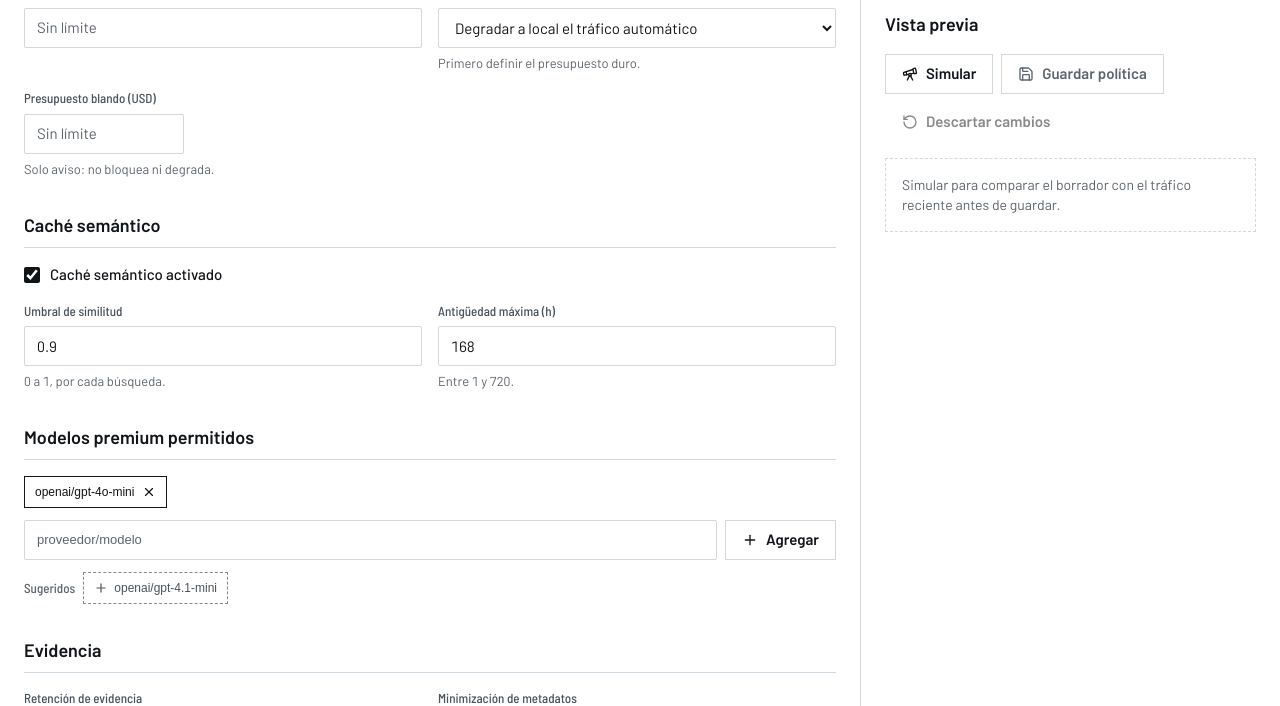
Test: policy-form › clears a field's error as soon as it is edited, and the panel stops naming it
(page scrolled)
Replace the text in the field labelled "Umbral de similitud" with "1.2" at (223, 346), box [24,326,422,366]
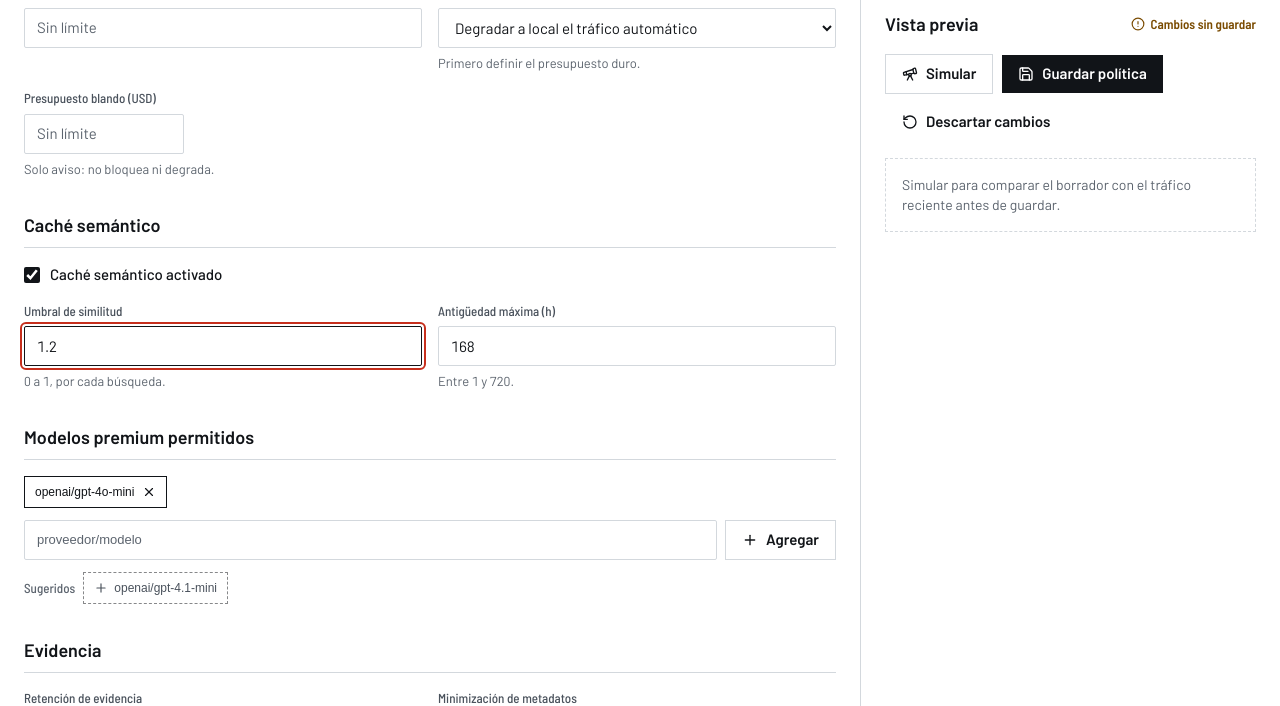
Click the button "Guardar política" at (1083, 74), box [1001,54,1164,94]
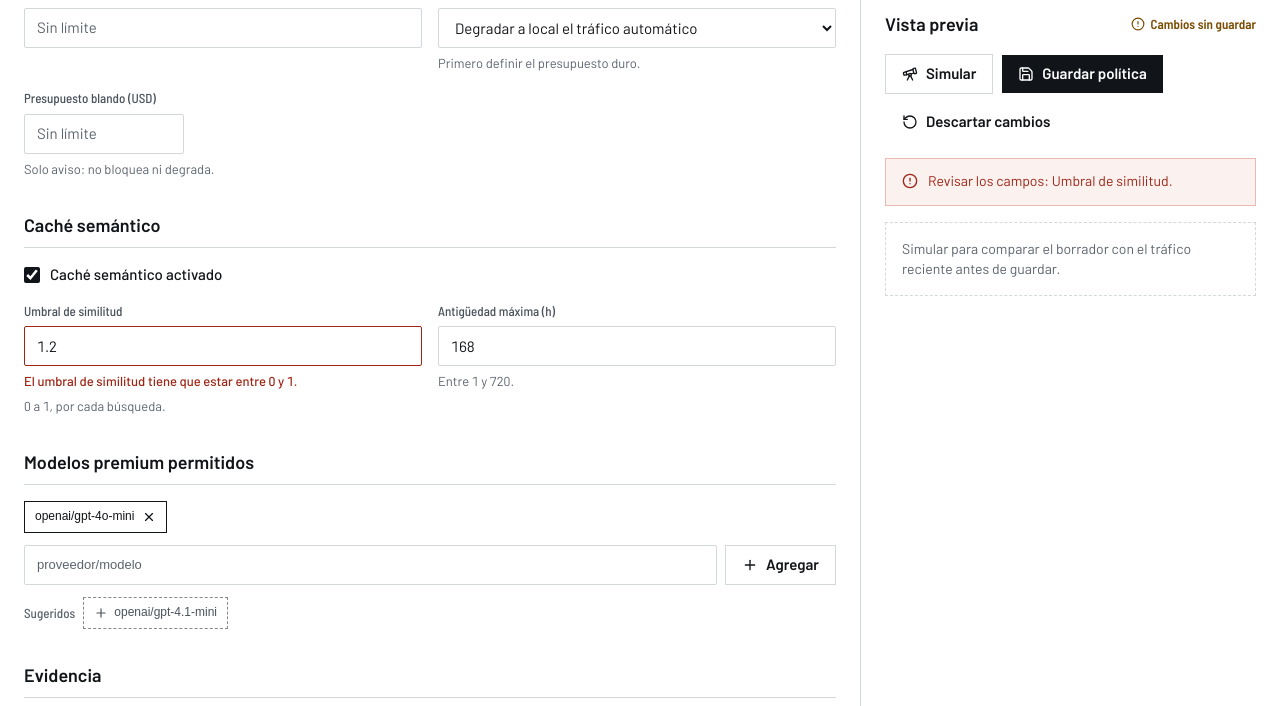
Expected: the text "El umbral de similitud tiene que estar entre 0 y 1." is shown, [24,373,297,389]
Type "0" into the field labelled "Umbral de similitud" at (223, 346), box [24,326,422,366]
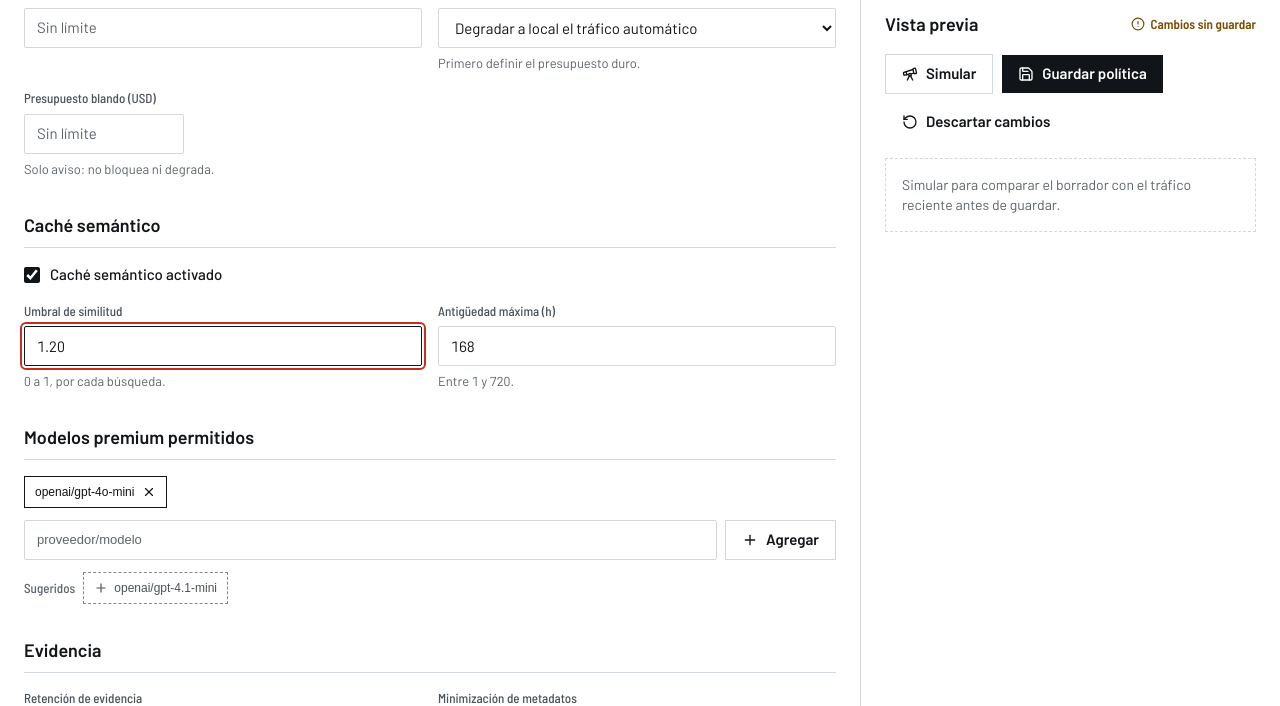
Expected: the text "El umbral de similitud tiene que estar entre 0 y 1." is gone
Expected: the text "Revisar los campos" is gone
